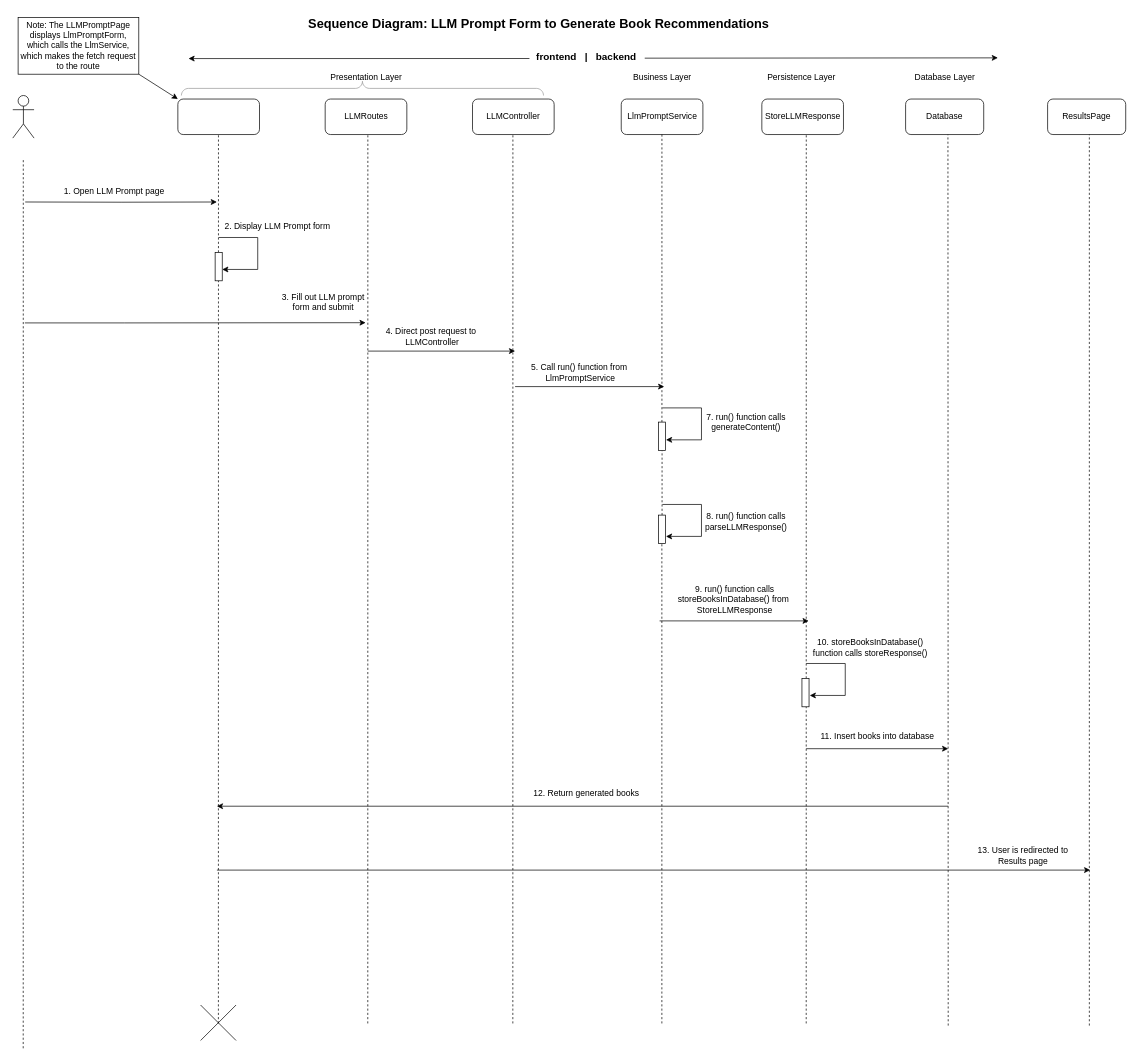
Some shapes in this 1138 by 1061 pixel diagram are drawn without their labels. The shapes that lost their labels are listed below. From the top down, each one's centre as x and y in pixels, then its label:
At (x=23, y=116): "User".
At (x=218, y=116): "LLMPromptPage".
